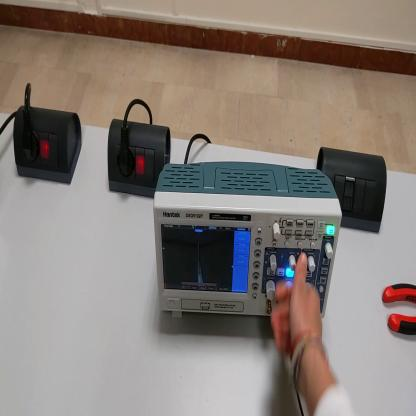hand: (273, 252, 325, 359)
oscilloscope: (153, 162, 342, 320)
pliers: (382, 284, 416, 338)
socket: (12, 105, 85, 188), (107, 116, 173, 199)
